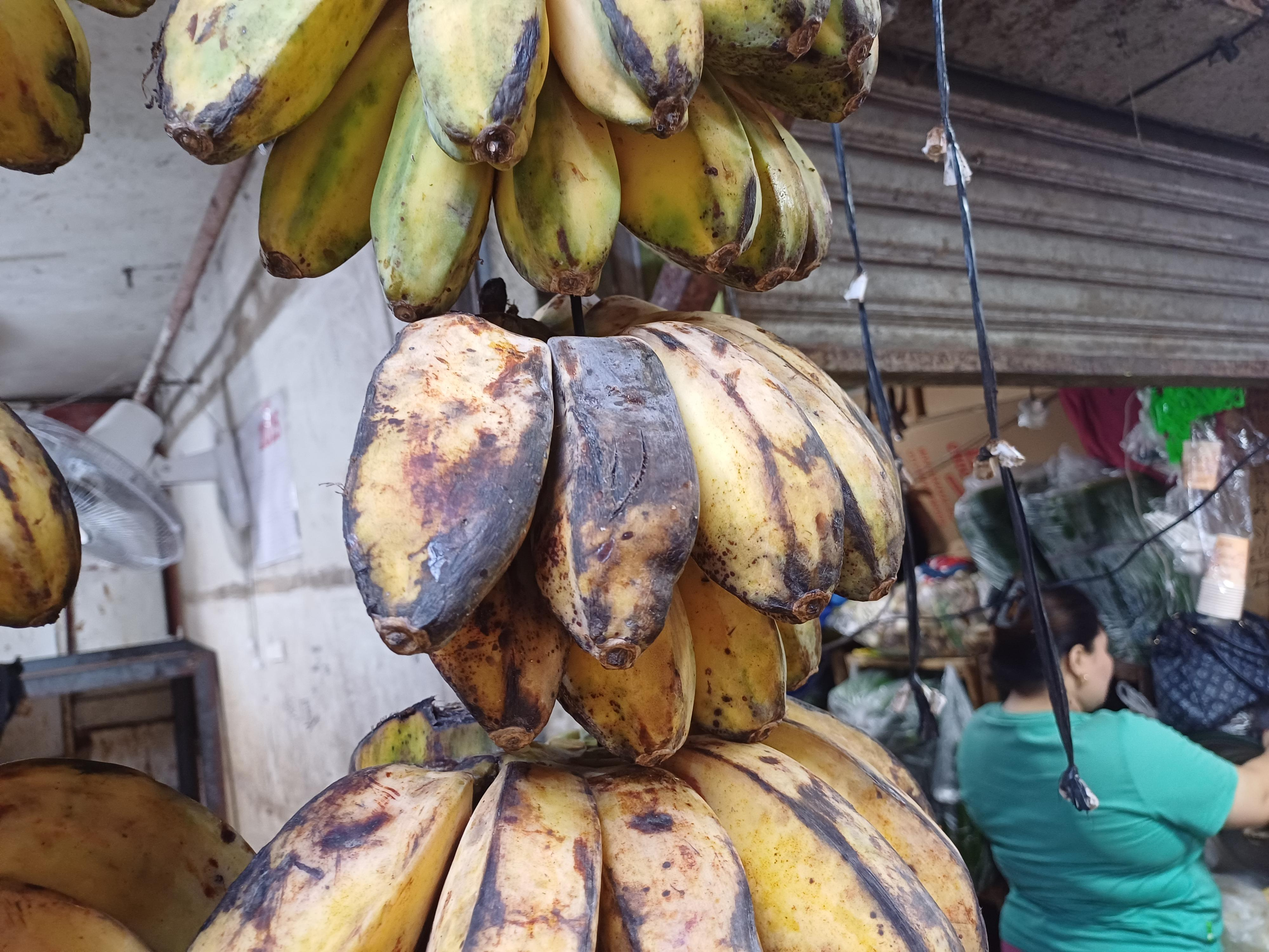ripe: (344, 311, 906, 765), (189, 700, 988, 952)
underripe: (156, 0, 880, 323)
